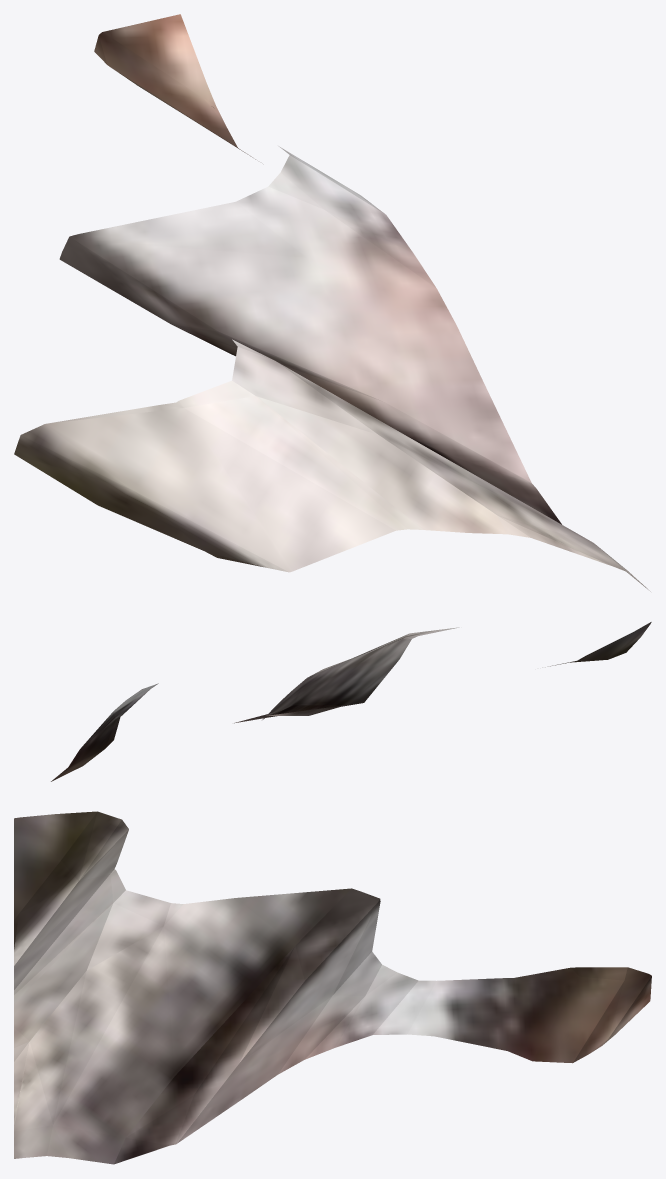
3 views of the same model, one above another, from view 1: azimuth 30°, elevation 25°; view 2: azimuth 150°, elevation 25°; view 3: azimuth 270°, elevation 25° (orthographic). The views are drawn at different scales.
Size of the model in its own units: 0.2958 by 0.1187 by 0.4203.
1 material, 1 textured.
